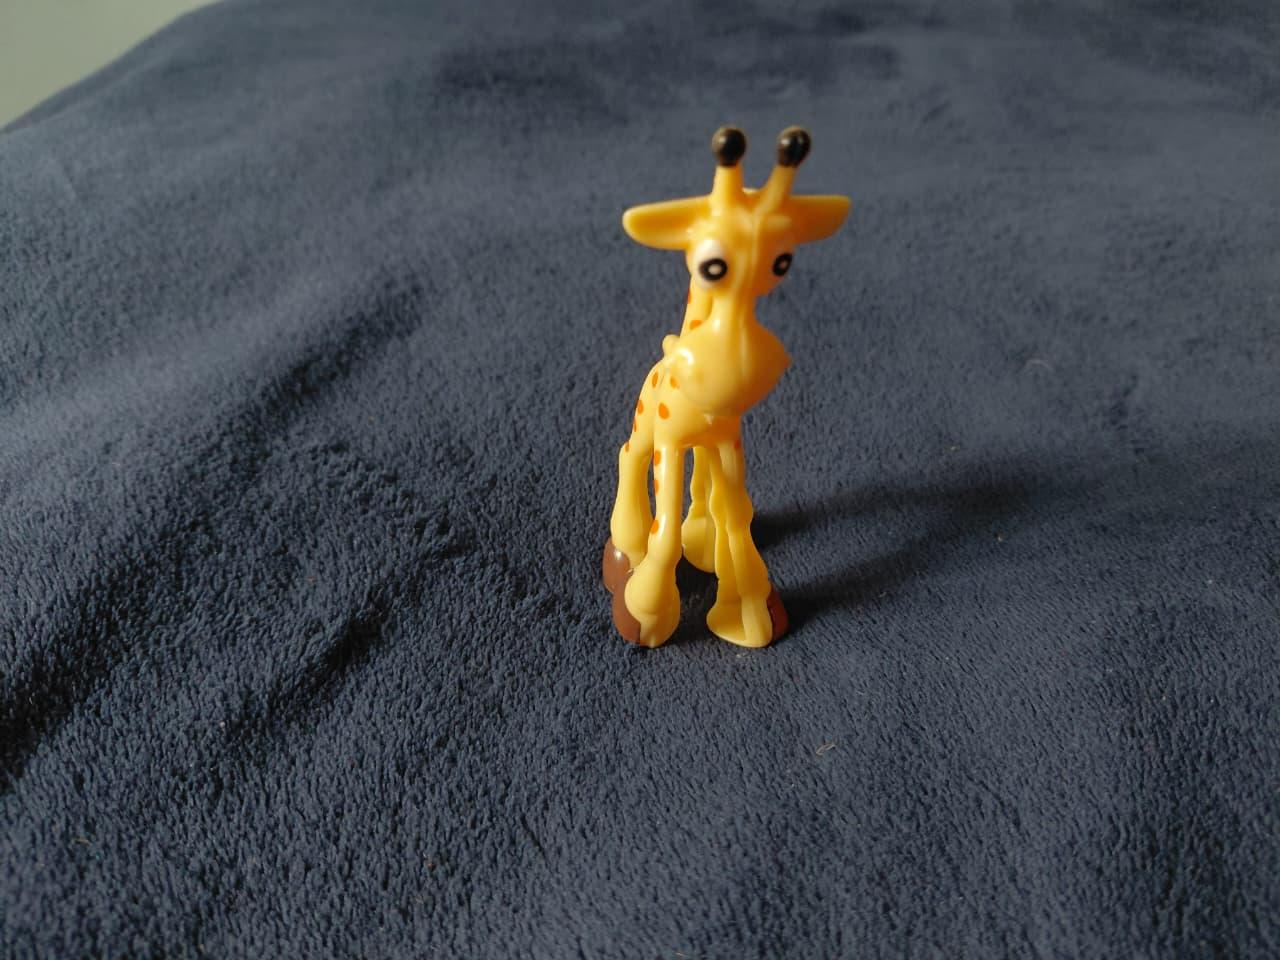giraffe: (584, 114, 856, 667)
